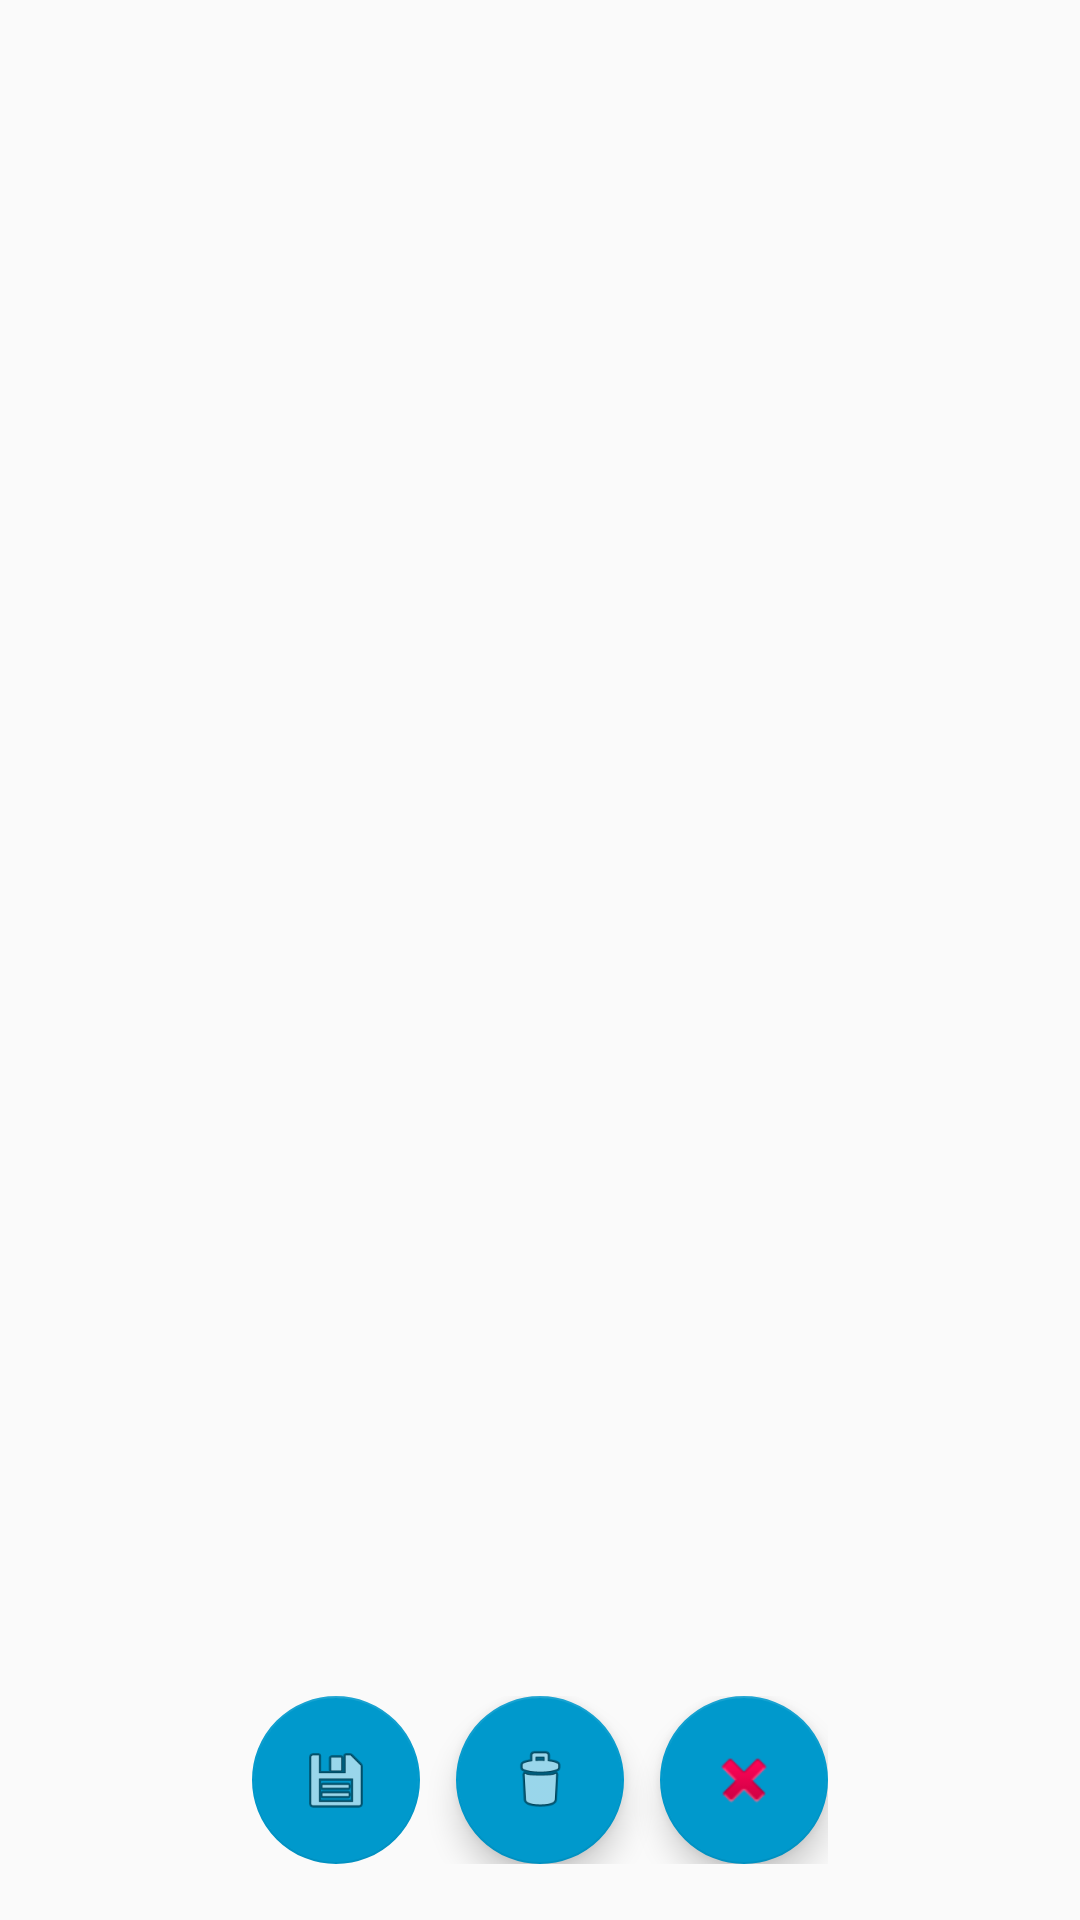

Icon click points for this 1080 x 1920 phone screenshot, format (x=x, y=y):
delete: (x=540, y=1780), (x=744, y=1780)
save: (x=336, y=1780)
